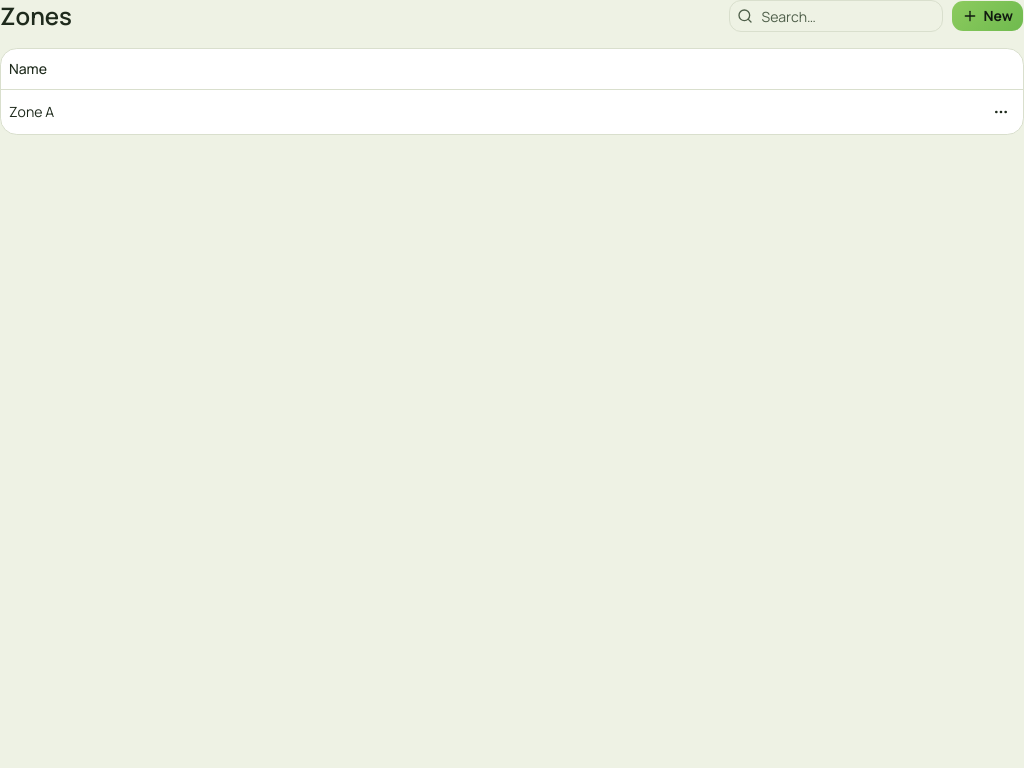
EntityCrudPage › creates through the mapped input, toasts and closes the dialog
Click the button "New": (987, 16) [951,0,1023,32]
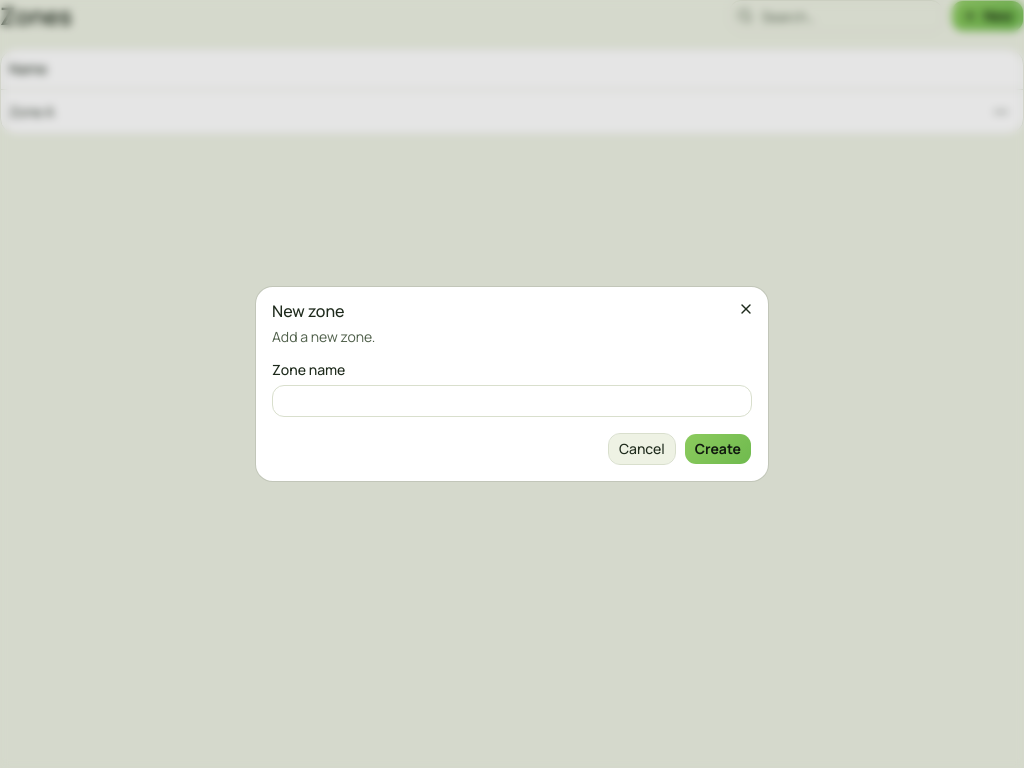
Result: the heading "New zone" is shown at [272,300,344,322]
In the field: (512, 401) [272,385,752,417], type "  Zone B "
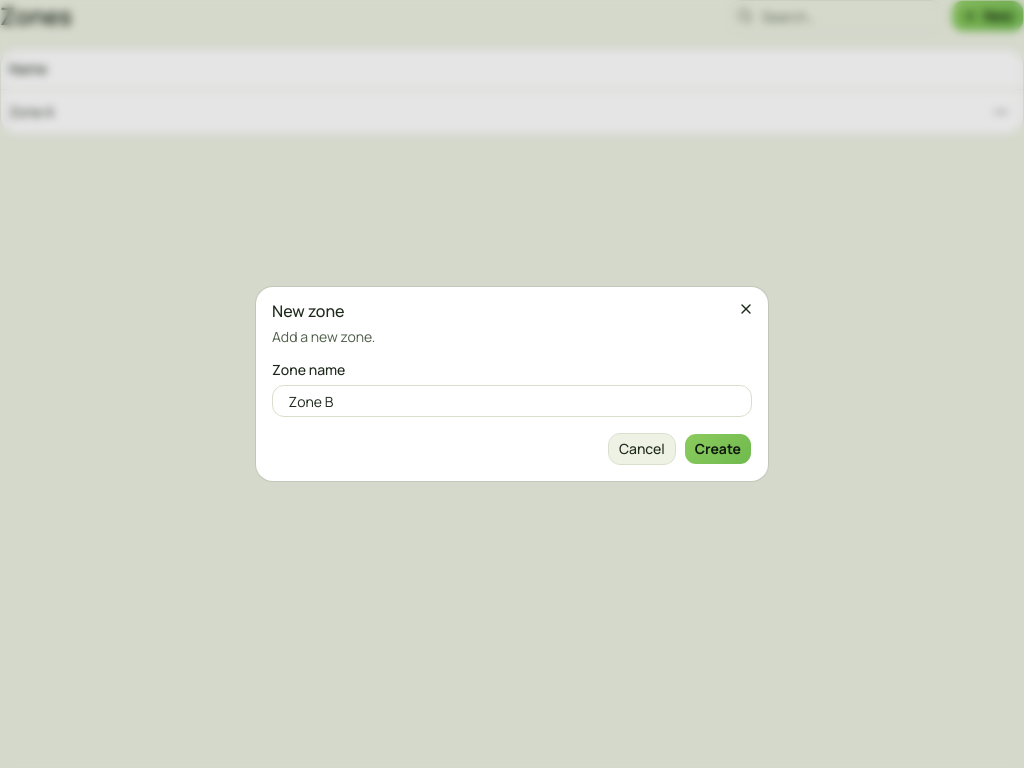
Click the button "Create": (718, 449) [684,433,752,465]
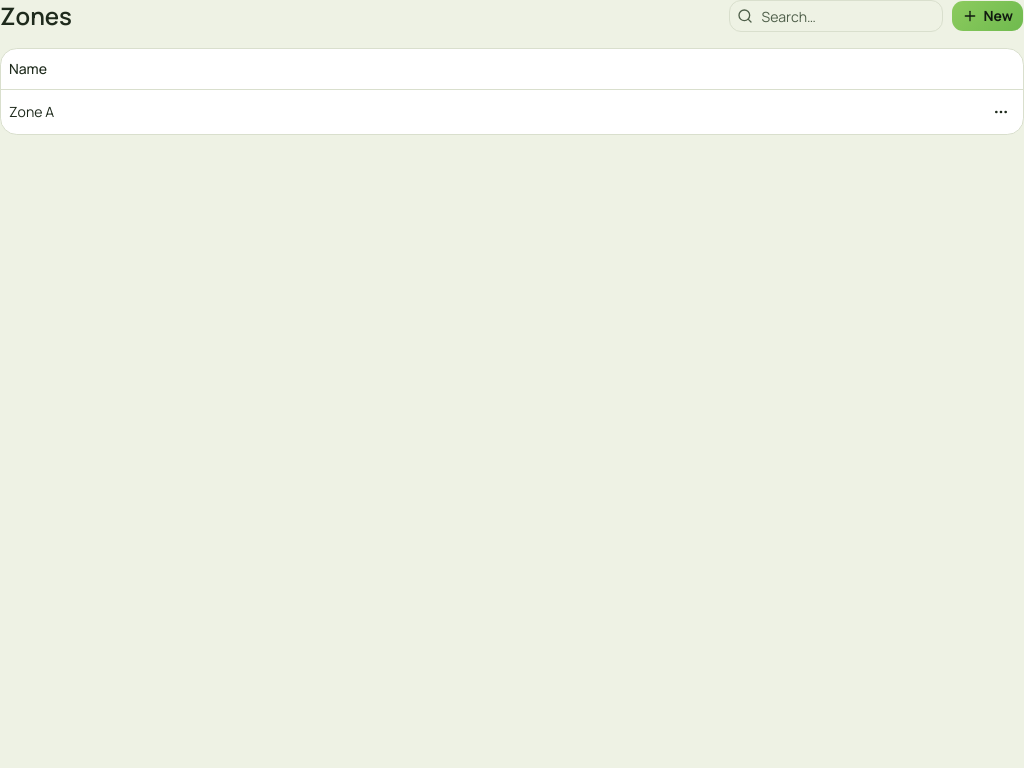
Result: the heading "New zone" is gone
